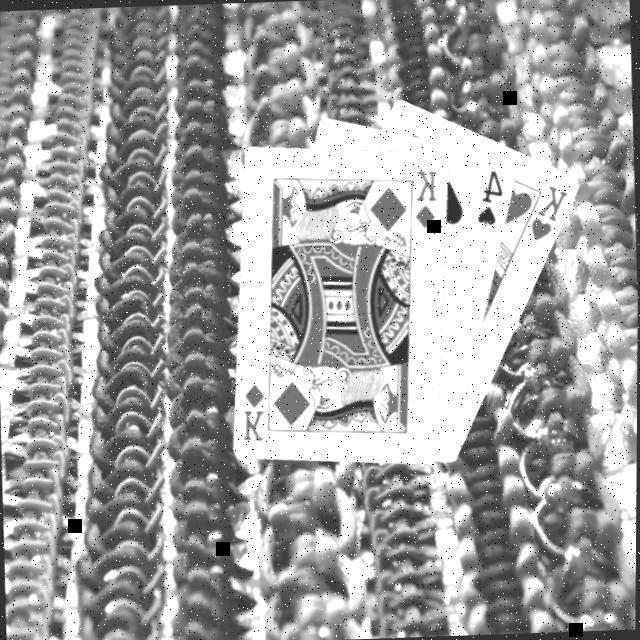4S: (474, 164, 510, 228)
KD: (240, 378, 272, 442), (413, 165, 444, 230)
KH: (528, 180, 576, 243)
